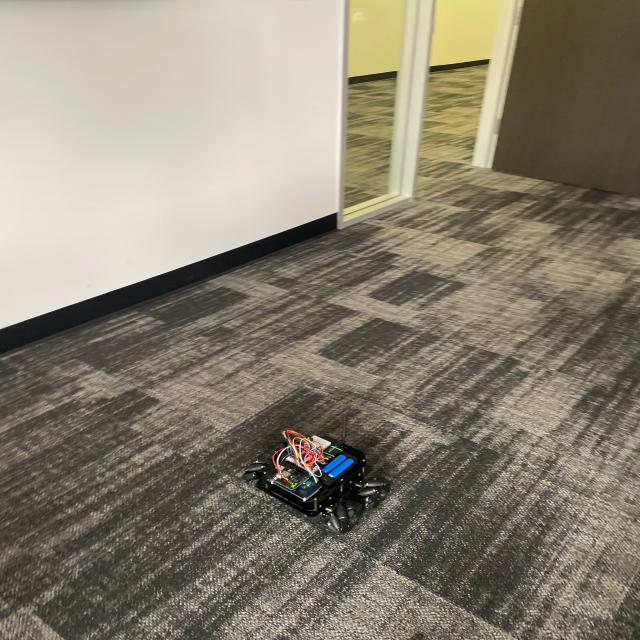ArduinoCar: (246, 420, 392, 534)
